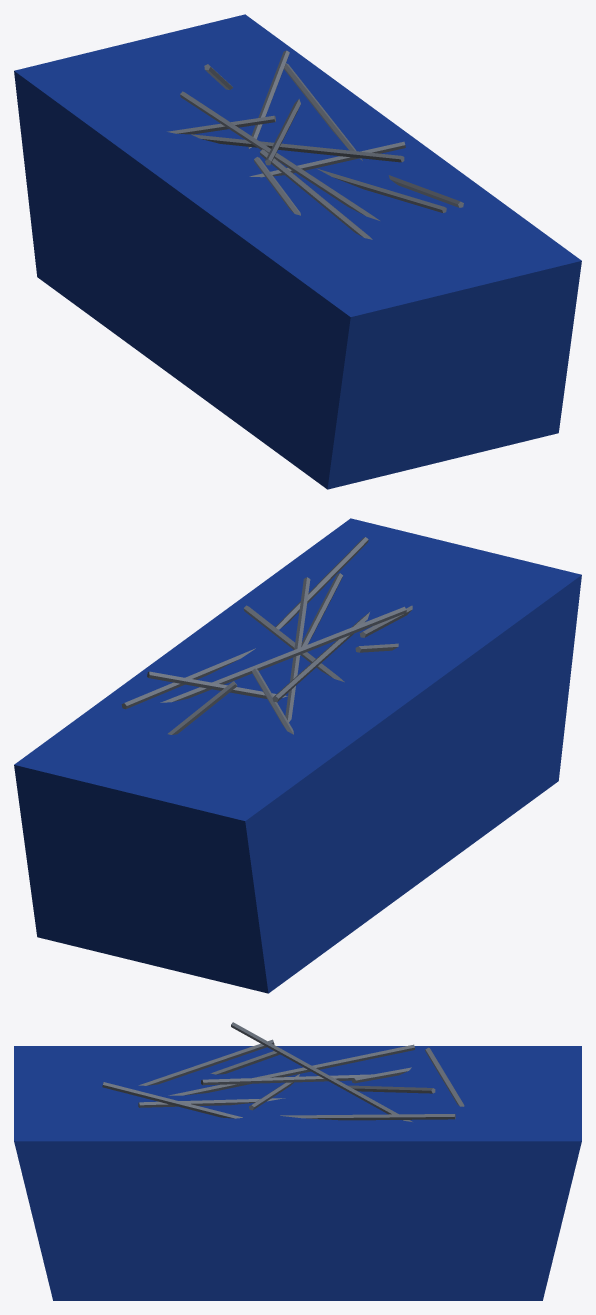
Rendered from demolition.bin.scrap_metal.glb.
The picture shows the model from 3 angles, top to bottom: view 1: azimuth 30°, elevation 25°; view 2: azimuth 150°, elevation 25°; view 3: azimuth 270°, elevation 25°; orthographic projection. The views are drawn at different scales.
Visible parts, largest first — view 1: main__plastic_blue, main__steel_painted; view 2: main__plastic_blue, main__steel_painted; view 3: main__plastic_blue, main__steel_painted.
Part boxes in pixels (x1,y1,x2,y2): main__plastic_blue: (14,14,581,489); main__steel_painted: (167,50,463,239); main__plastic_blue: (14,518,581,993); main__steel_painted: (121,537,412,734); main__plastic_blue: (14,1046,581,1300); main__steel_painted: (102,1022,464,1121).
Bounding box in the file's own units: 2.3 × 2.29 × 5.8.
